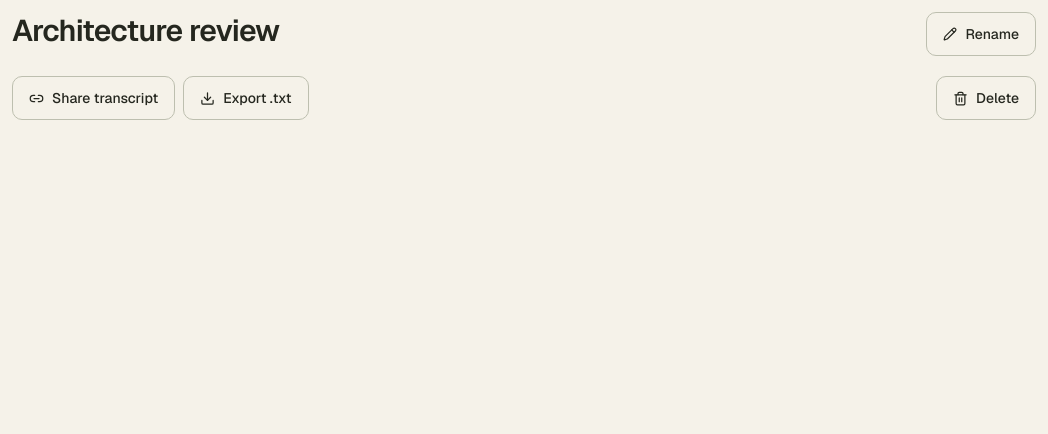
Test case: saved transcript actions › keeps a live link available after revoke failure and removes it only on success
The image size is (1048, 434).
What coordinates should you click on to do the following:
click the button "Share transcript"
I would click on:
 (94, 98)
Its box is 12,76 -> 175,120.
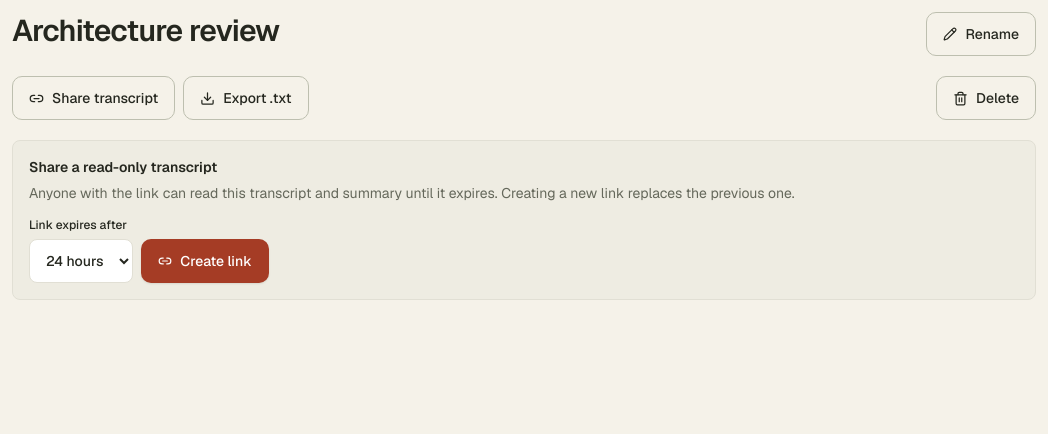
What coordinates should you click on to do the following:
click the button "Create link"
I would click on:
 (205, 261)
Its box is 141,239 -> 269,283.
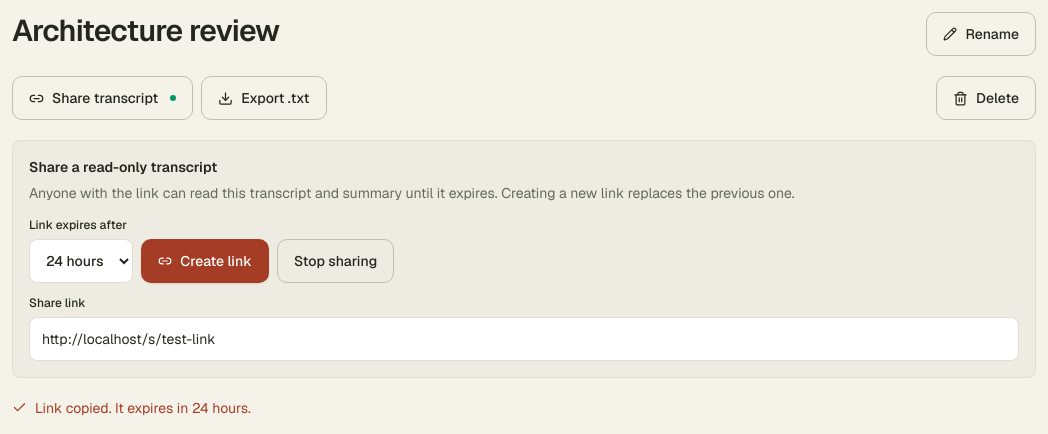
Result: the field labelled "Share link" is shown at 29,317 -> 1019,361
Result: the button "Stop sharing" is enabled
What coordinates should you click on to do the following:
click the button "Stop sharing"
I would click on:
 (336, 261)
Its box is 277,239 -> 394,283.
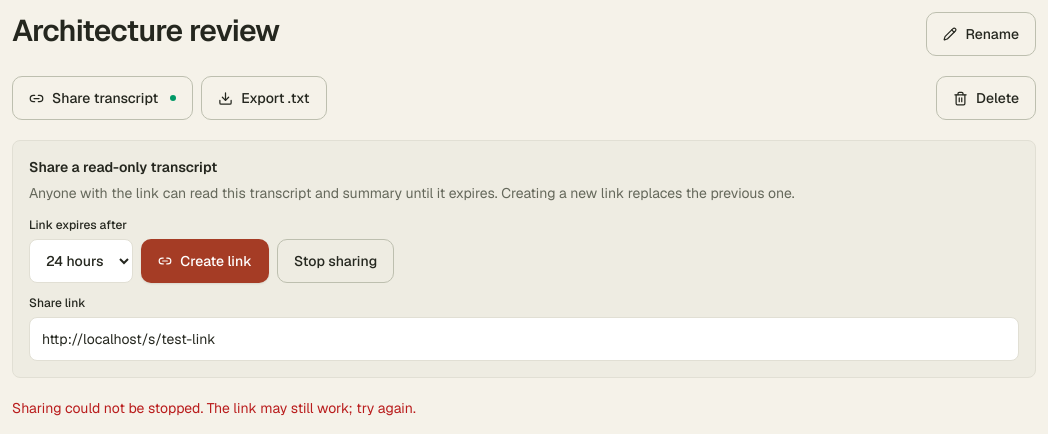
Result: the field labelled "Share link" is shown at 29,317 -> 1019,361
Result: the button "Stop sharing" is enabled
Result: the message shows "link may still work" at 12,399 -> 416,417
What coordinates should you click on to do the following:
click the button "Stop sharing"
I would click on:
 (336, 261)
Its box is 277,239 -> 394,283.
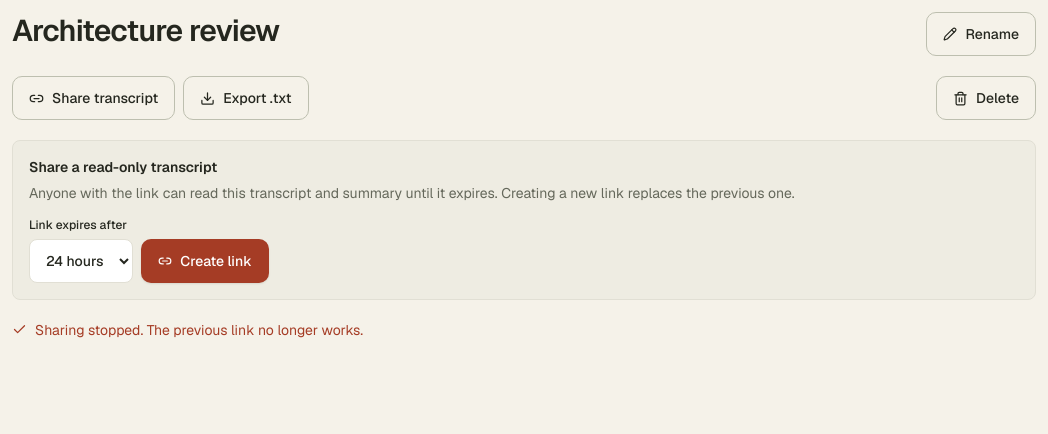
Result: the label labelled "Share link" is gone
Result: the message shows "Sharing stopped" at 35,321 -> 363,339
